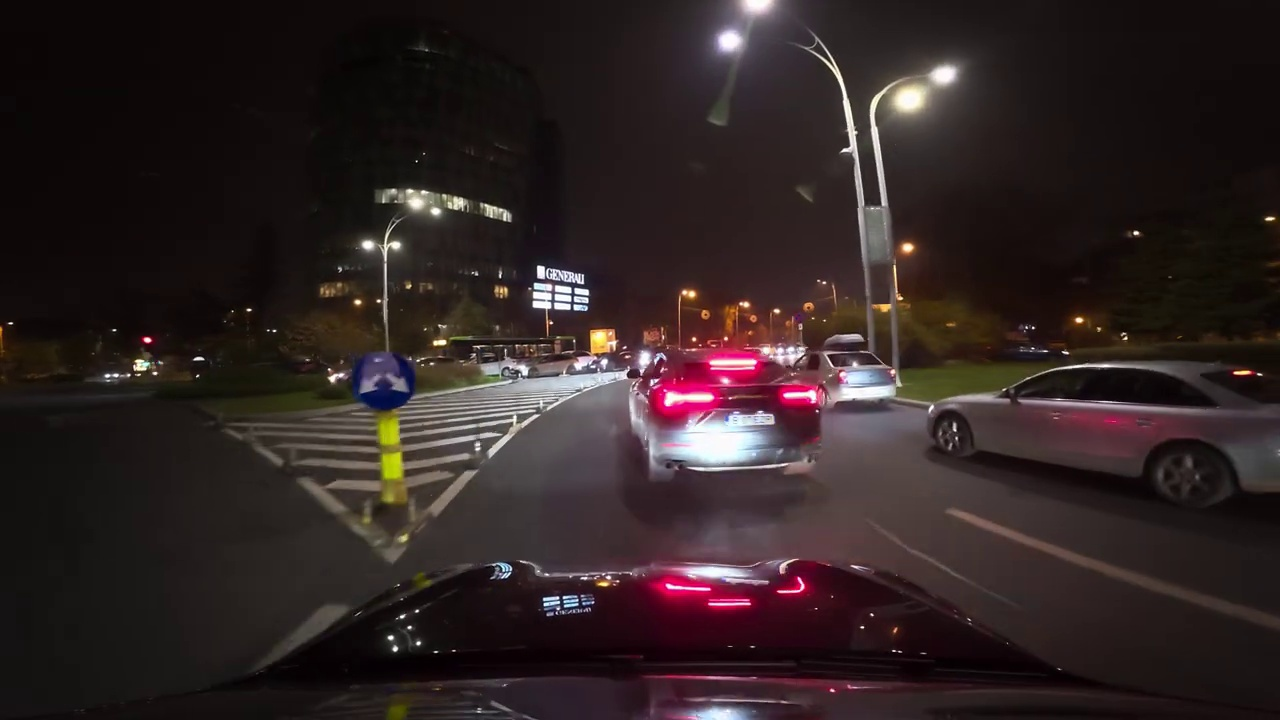acesa: (894, 85, 925, 115), (929, 62, 958, 90), (716, 27, 744, 55), (897, 238, 919, 260), (794, 183, 816, 205), (679, 285, 701, 304)
